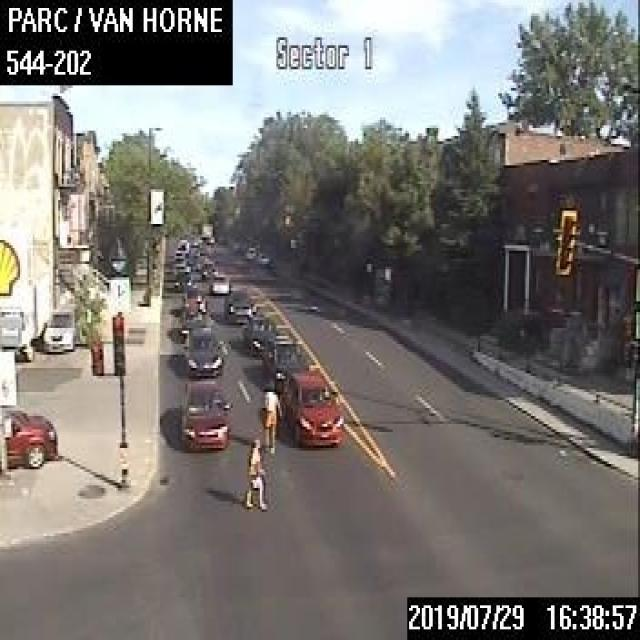pedestrian: (243, 433, 267, 509), (258, 379, 282, 453)
vehicle: (277, 369, 343, 448), (178, 378, 232, 448), (2, 406, 57, 467), (261, 332, 312, 388), (182, 324, 225, 376), (40, 300, 78, 350), (242, 313, 276, 353), (222, 289, 254, 320), (178, 308, 205, 337), (180, 286, 205, 314), (210, 271, 231, 293), (199, 257, 217, 277), (173, 270, 190, 288), (172, 258, 190, 274)
